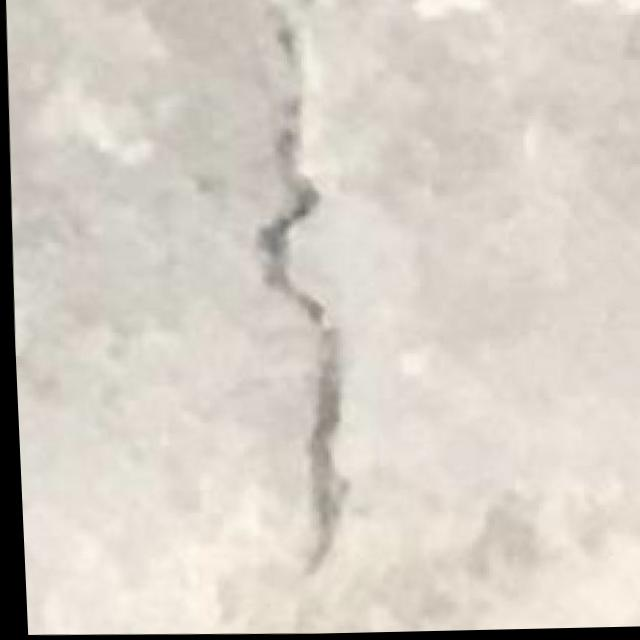Crack: (226, 7, 371, 580)
